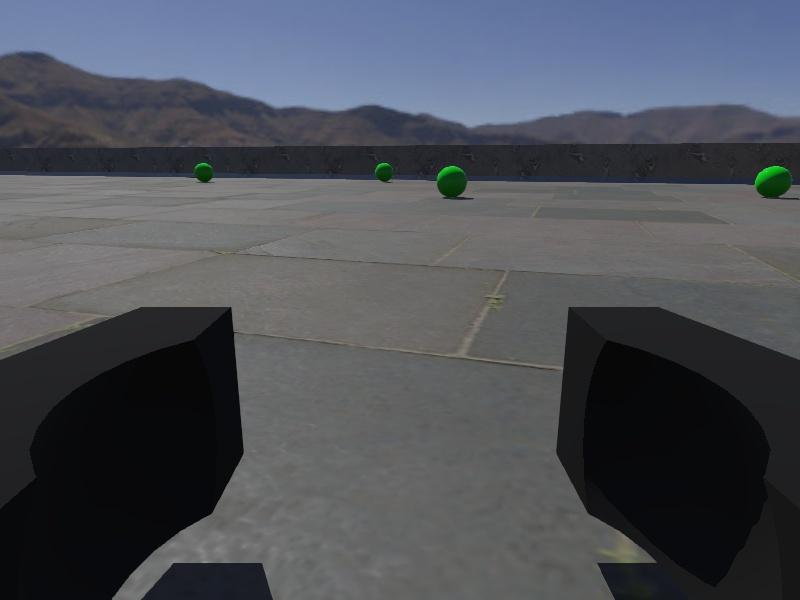green ball: (754, 165, 792, 199), (436, 165, 468, 198), (192, 161, 215, 184), (375, 162, 395, 182)
